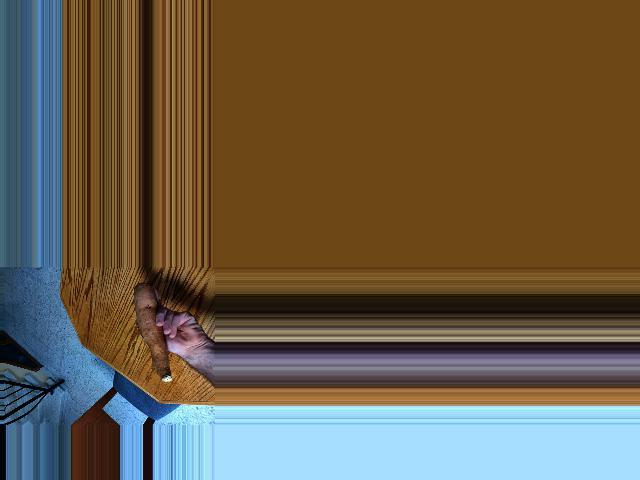sweet_potato: (132, 281, 175, 383)
